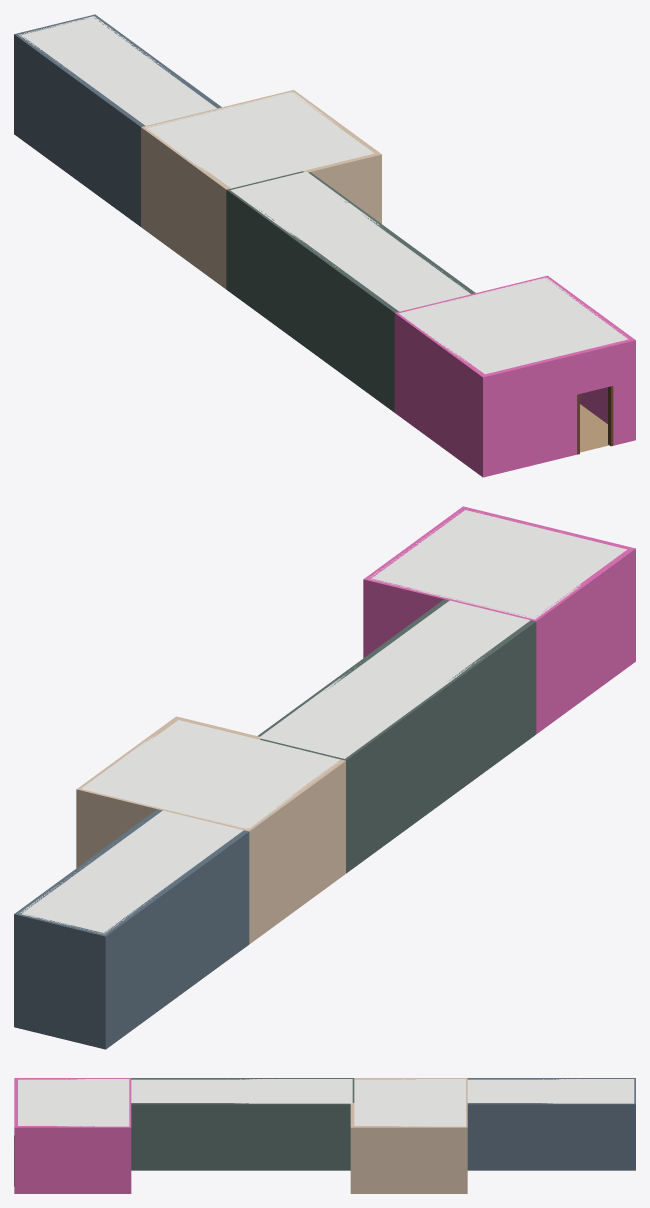
File: stanza_chiusa.glb
The picture shows the model from 3 angles, top to bottom: view 1: azimuth 30°, elevation 25°; view 2: azimuth 150°, elevation 25°; view 3: azimuth 270°, elevation 25°; orthographic projection. The views are drawn at different scales.
Parts seen in each view (by area): view 1: Soffitto_atrio_intimo, Soffitto_galleria_stretta_1, Soffitto_saletta_centrale, Soffitto_galleria_prospettica, Muro_atrio_intimo_S_1, Muro_atrio_intimo_S_2, Muro_galleria_stretta_1_O_1, Muro_galleria_prospettica_O_1, Muro_galleria_stretta_1_O_2, Muro_galleria_prospettica_O_2, Muro_galleria_prospettica_O_3, Muro_atrio_intimo_O_1 (+9 smaller); view 2: Soffitto_galleria_stretta_1, Soffitto_saletta_centrale, Soffitto_atrio_intimo, Soffitto_galleria_prospettica, Muro_galleria_prospettica_N_1, Muro_galleria_prospettica_O_2, Muro_galleria_prospettica_O_1, Muro_galleria_stretta_1_O_1, Muro_galleria_stretta_1_O_2, Muro_saletta_centrale_O_2, Muro_atrio_intimo_O_1, Muro_galleria_prospettica_O_3 (+7 smaller); view 3: Soffitto_galleria_stretta_1, Soffitto_atrio_intimo, Soffitto_saletta_centrale, Soffitto_galleria_prospettica, Muro_atrio_intimo_E_2, Muro_galleria_prospettica_E_1, Muro_saletta_centrale_E_1, Muro_galleria_prospettica_E_2, Muro_galleria_prospettica_E_3, Muro_galleria_stretta_1_E_4, Muro_atrio_intimo_E_1, Muro_galleria_stretta_1_E_1 (+8 smaller).
Part boxes in pixels (left/top/right/bottom): Soffitto_atrio_intimo: left=399, top=277, right=628, bottom=374; Soffitto_galleria_stretta_1: left=230, top=171, right=470, bottom=311; Soffitto_saletta_centrale: left=145, top=91, right=374, bottom=188; Soffitto_galleria_prospettica: left=18, top=16, right=216, bottom=125; Muro_atrio_intimo_S_1: left=485, top=357, right=559, bottom=476; Muro_atrio_intimo_S_2: left=557, top=339, right=631, bottom=458; Muro_galleria_stretta_1_O_1: left=353, top=281, right=399, bottom=412; Muro_galleria_prospettica_O_1: left=99, top=95, right=145, bottom=226; Muro_galleria_stretta_1_O_2: left=312, top=251, right=357, bottom=382; Muro_galleria_prospettica_O_2: left=58, top=65, right=103, bottom=196; Muro_galleria_prospettica_O_3: left=16, top=35, right=62, bottom=165; Muro_atrio_intimo_O_1: left=439, top=344, right=484, bottom=474; Soffitto_galleria_stretta_1: left=259, top=600, right=530, bottom=758; Soffitto_saletta_centrale: left=81, top=720, right=340, bottom=829; Soffitto_atrio_intimo: left=368, top=510, right=626, bottom=619; Soffitto_galleria_prospettica: left=19, top=810, right=243, bottom=934; Muro_galleria_prospettica_N_1: left=19, top=914, right=102, bottom=1047; Muro_galleria_prospettica_O_2: left=150, top=864, right=202, bottom=1012; Muro_galleria_prospettica_O_1: left=197, top=830, right=249, bottom=978; Muro_galleria_stretta_1_O_1: left=484, top=620, right=536, bottom=768; Muro_galleria_stretta_1_O_2: left=440, top=654, right=489, bottom=802; Muro_saletta_centrale_O_2: left=250, top=794, right=299, bottom=941; Muro_atrio_intimo_O_1: left=581, top=549, right=632, bottom=697; Muro_galleria_prospettica_O_3: left=104, top=899, right=155, bottom=1046; Soffitto_galleria_stretta_1: left=131, top=1079, right=352, bottom=1103; Soffitto_atrio_intimo: left=18, top=1079, right=129, bottom=1126; Soffitto_saletta_centrale: left=354, top=1079, right=465, bottom=1126; Soffitto_galleria_prospettica: left=467, top=1079, right=634, bottom=1103; Muro_atrio_intimo_E_2: left=72, top=1126, right=127, bottom=1193; Muro_galleria_prospettica_E_1: left=467, top=1103, right=522, bottom=1170; Muro_saletta_centrale_E_1: left=354, top=1126, right=409, bottom=1193; Muro_galleria_prospettica_E_2: left=522, top=1103, right=577, bottom=1170; Muro_galleria_prospettica_E_3: left=577, top=1103, right=632, bottom=1170; Muro_galleria_stretta_1_E_4: left=295, top=1103, right=350, bottom=1170; Muro_atrio_intimo_E_1: left=18, top=1126, right=72, bottom=1193; Muro_galleria_stretta_1_E_1: left=131, top=1103, right=185, bottom=1170.
Bounding box in the file's own units: 6.4 × 4 × 34.01.
